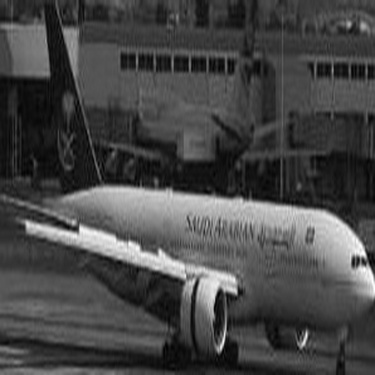airplane: (3, 1, 372, 371), (64, 5, 336, 209)
